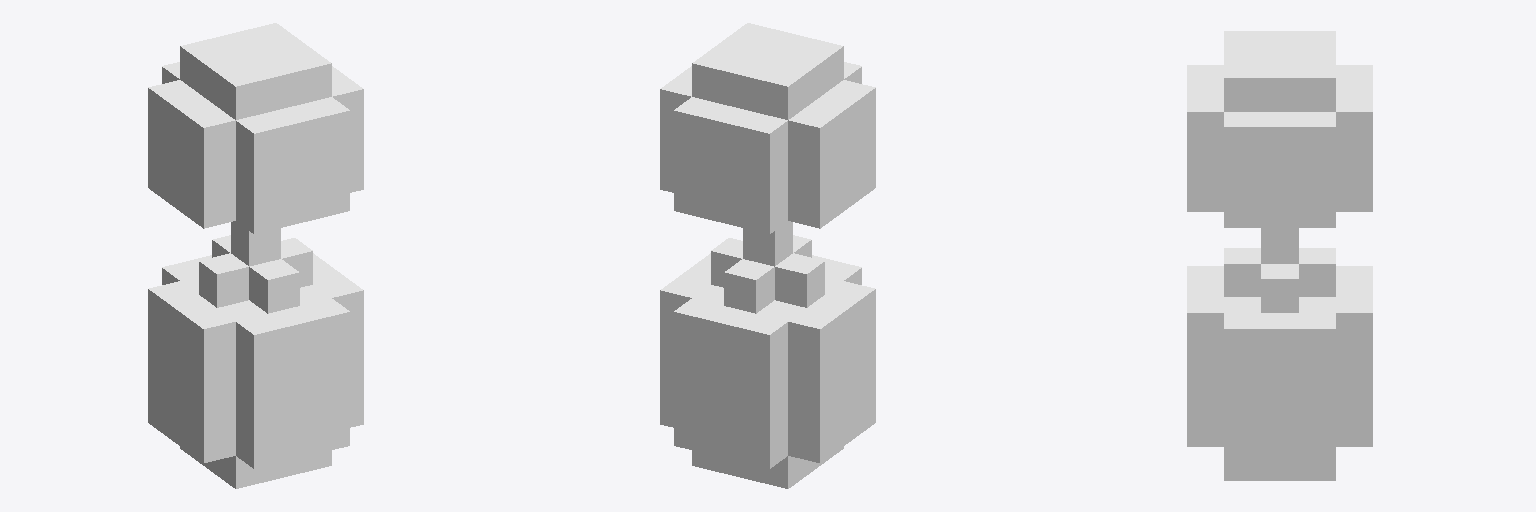
File: lamp.obj
3 views of the same model, side by side, from view 1: azimuth 30°, elevation 25°; view 2: azimuth 150°, elevation 25°; view 3: azimuth 270°, elevation 25° (orthographic).
Size of the model in its own units: 5 by 12 by 5.